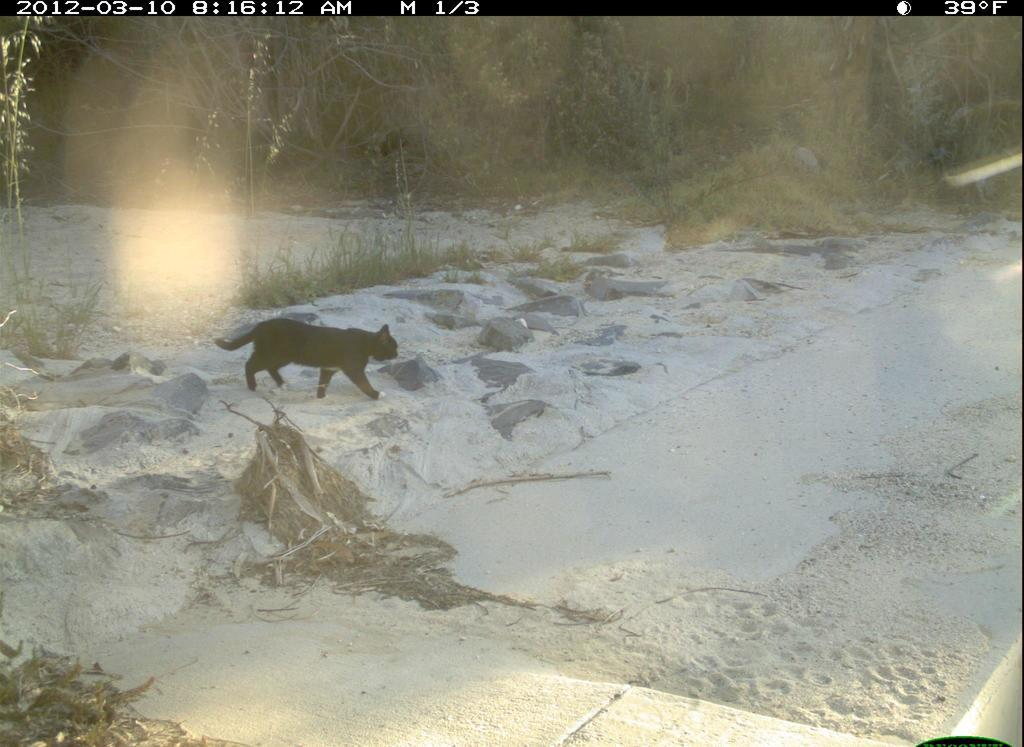cat: (209, 299, 424, 402)
